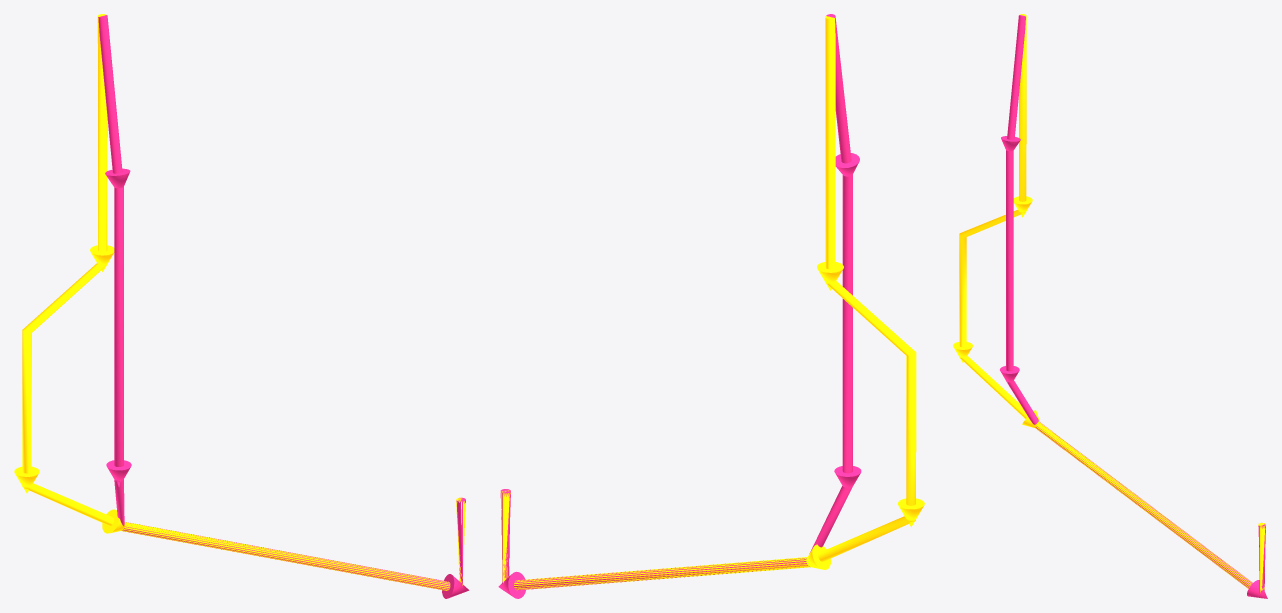
The model's file is soft_starter_flow.glb.
3 views of the same model, side by side, from view 1: azimuth 30°, elevation 25°; view 2: azimuth 150°, elevation 25°; view 3: azimuth 330°, elevation 25° (orthographic). The views are drawn at different scales.
Visible parts, largest first — view 1: ramp_current, bypass_current; view 2: ramp_current, bypass_current; view 3: ramp_current, bypass_current.
Boxes of the visible parts, x1,y1,x2,y2 form: ramp_current: (14,14,465,590); bypass_current: (98,15,469,598); ramp_current: (500,16,924,590); bypass_current: (498,14,861,598); ramp_current: (953,14,1265,592); bypass_current: (1000,15,1267,598).
Bounding box in the file's own units: 0.9001 × 1.29 × 0.1427.
